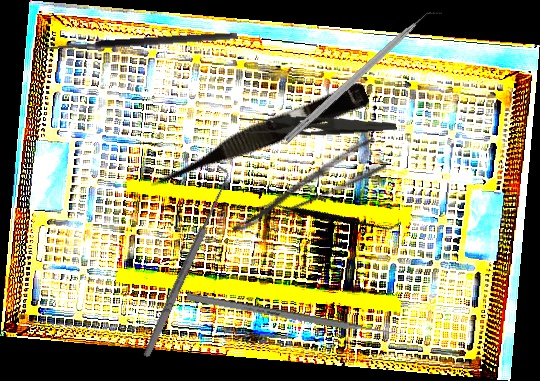Chopper: (283, 3, 446, 151)
Dressing Forceps: (219, 135, 389, 236), (239, 104, 397, 142)
Hook Surgical: (133, 162, 237, 362), (35, 30, 239, 64)
Micro Scissor: (143, 75, 371, 196)
Pusher: (185, 292, 406, 340)
Spatula Surgical: (255, 157, 403, 274)
